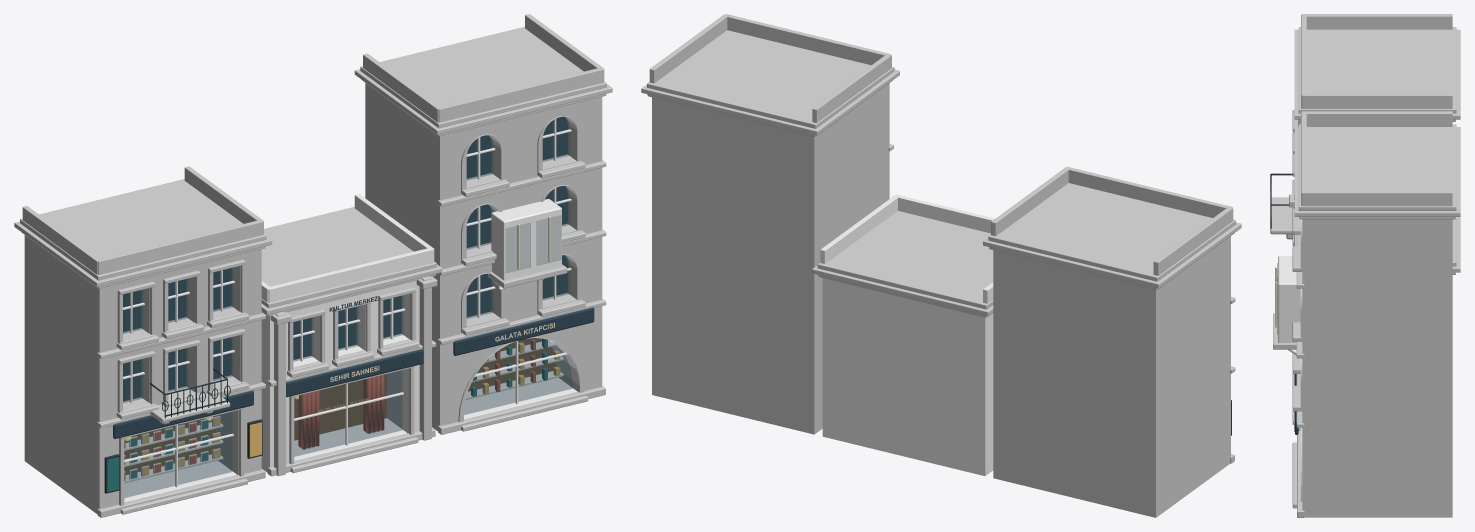
File: DistrictBlock_4_1.glb
The picture shows the model from 3 angles, left to right: view 1: azimuth 30°, elevation 25°; view 2: azimuth 150°, elevation 25°; view 3: azimuth 270°, elevation 25°; orthographic projection.
Visible parts, largest first — view 1: RK_DistrictBlock_4_1_LC_Lime, RK_DistrictBlock_4_1_LC_Glass, RK_DistrictBlock_4_1_LC_Wood, RK_DistrictBlock_4_1_LC_Ink, RK_DistrictBlock_4_1_LC_Brick, RK_DistrictBlock_4_1_LC_Interior, RK_DistrictBlock_4_1_LC_Red, RK_DistrictBlock_4_1_LC_Gold, RK_DistrictBlock_4_1_LC_Iron, RK_DistrictBlock_4_1_LC_Teal, RK_DistrictBlock_4_1_LC_Canvas; view 2: RK_DistrictBlock_4_1_LC_Lime, RK_DistrictBlock_4_1_LC_Brick; view 3: RK_DistrictBlock_4_1_LC_Lime, RK_DistrictBlock_4_1_LC_Wood.
Part boxes in pixels (<box>): RK_DistrictBlock_4_1_LC_Lime: <box>14,14,612,517</box>; RK_DistrictBlock_4_1_LC_Glass: <box>123,117,572,497</box>; RK_DistrictBlock_4_1_LC_Wood: <box>123,119,577,502</box>; RK_DistrictBlock_4_1_LC_Ink: <box>113,116,594,438</box>; RK_DistrictBlock_4_1_LC_Brick: <box>261,194,434,472</box>; RK_DistrictBlock_4_1_LC_Interior: <box>124,338,556,474</box>; RK_DistrictBlock_4_1_LC_Red: <box>124,339,535,480</box>; RK_DistrictBlock_4_1_LC_Gold: <box>142,342,560,475</box>; RK_DistrictBlock_4_1_LC_Iron: <box>104,368,262,493</box>; RK_DistrictBlock_4_1_LC_Teal: <box>107,338,547,492</box>; RK_DistrictBlock_4_1_LC_Canvas: <box>330,216,554,381</box>; RK_DistrictBlock_4_1_LC_Lime: <box>641,14,1241,517</box>; RK_DistrictBlock_4_1_LC_Brick: <box>820,194,994,475</box>; RK_DistrictBlock_4_1_LC_Lime: <box>1270,14,1460,517</box>; RK_DistrictBlock_4_1_LC_Wood: <box>1278,256,1300,355</box>.
Bounding box in the file's own units: 19.1 × 11.47 × 6.07.
